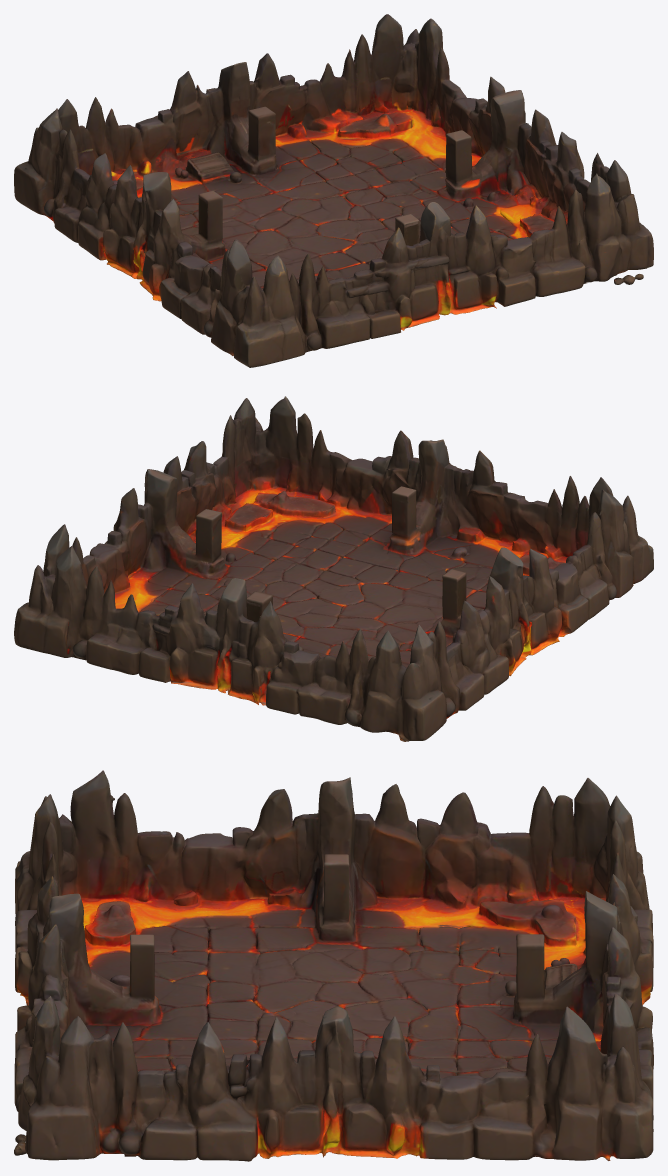
File: Meshy_AI_Inferno_Arena_0219022029_texture.glb
3 views of the same model, one above another, from view 1: azimuth 30°, elevation 25°; view 2: azimuth 150°, elevation 25°; view 3: azimuth 270°, elevation 25° (orthographic). The views are drawn at different scales.
Bounding box in the file's own units: 2 × 0.5233 × 2.
Materials: 1 (1 with a texture image).
